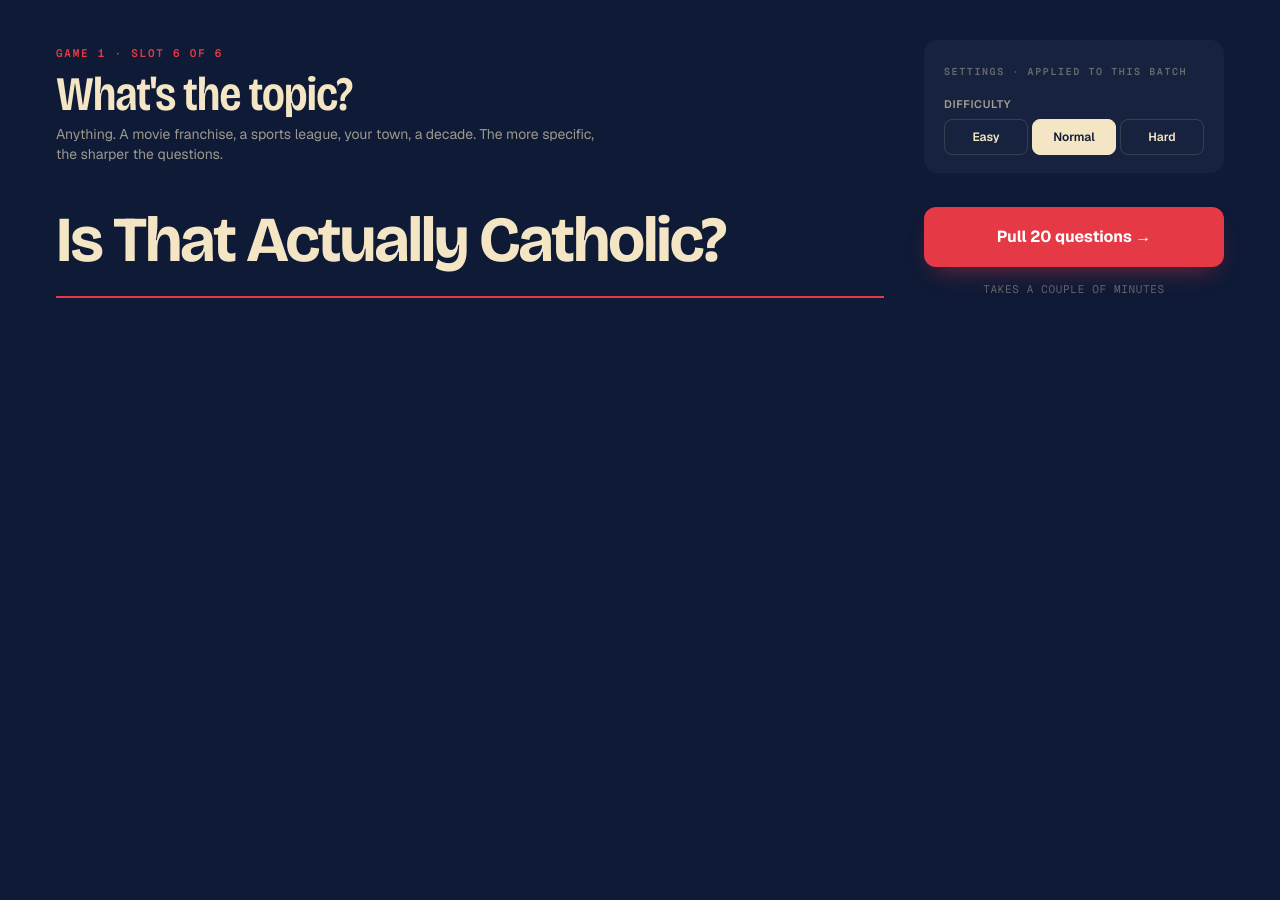
HostSetupTopicClient initialTopic › a different topic aimed at a filled slot says the slot is taken and starts nothing
Click the button "Pull 20 questions →" at (1074, 237), box [924,207,1224,267]
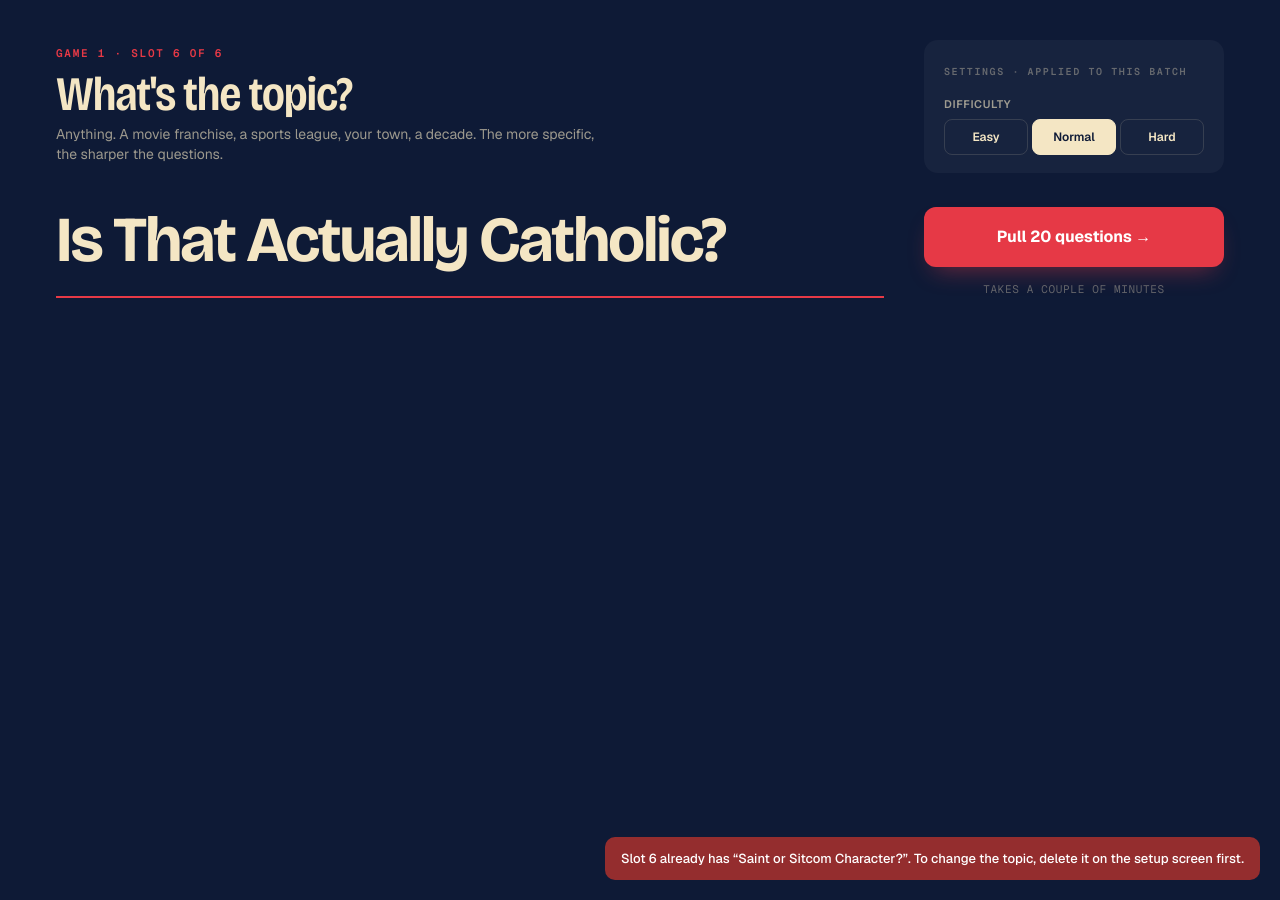
expect the message shows "Slot 6 already has": met, box [621,850,1244,866]
expect the message shows "Saint or Sitcom Character?": met, box [621,850,1244,866]
